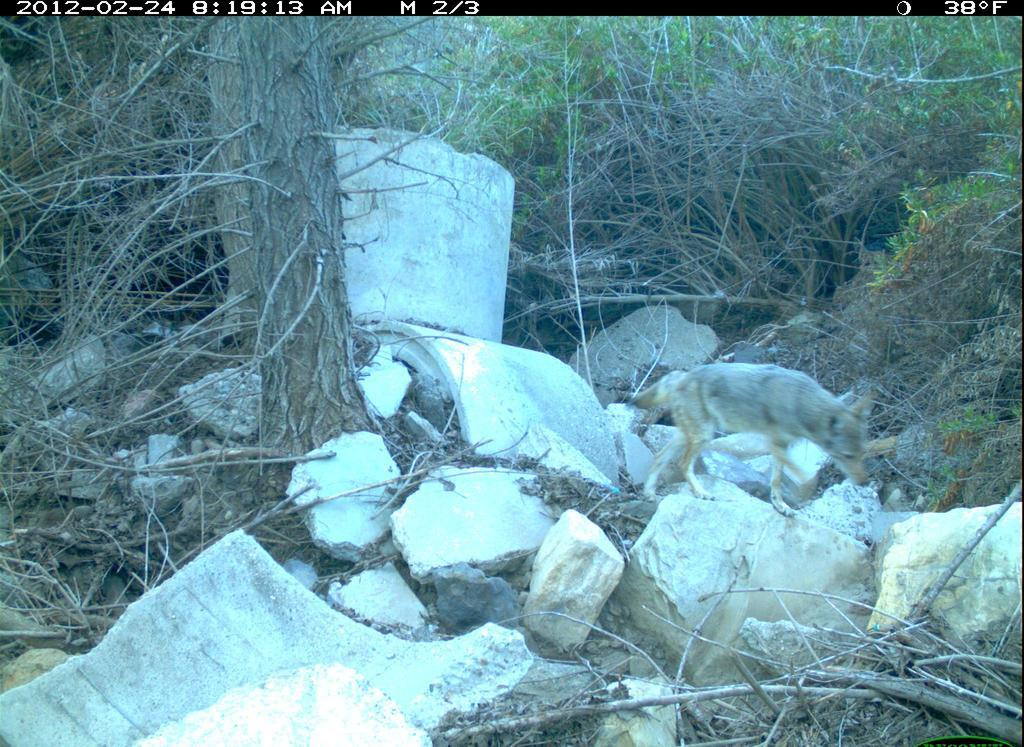coyote: (624, 356, 880, 521)
